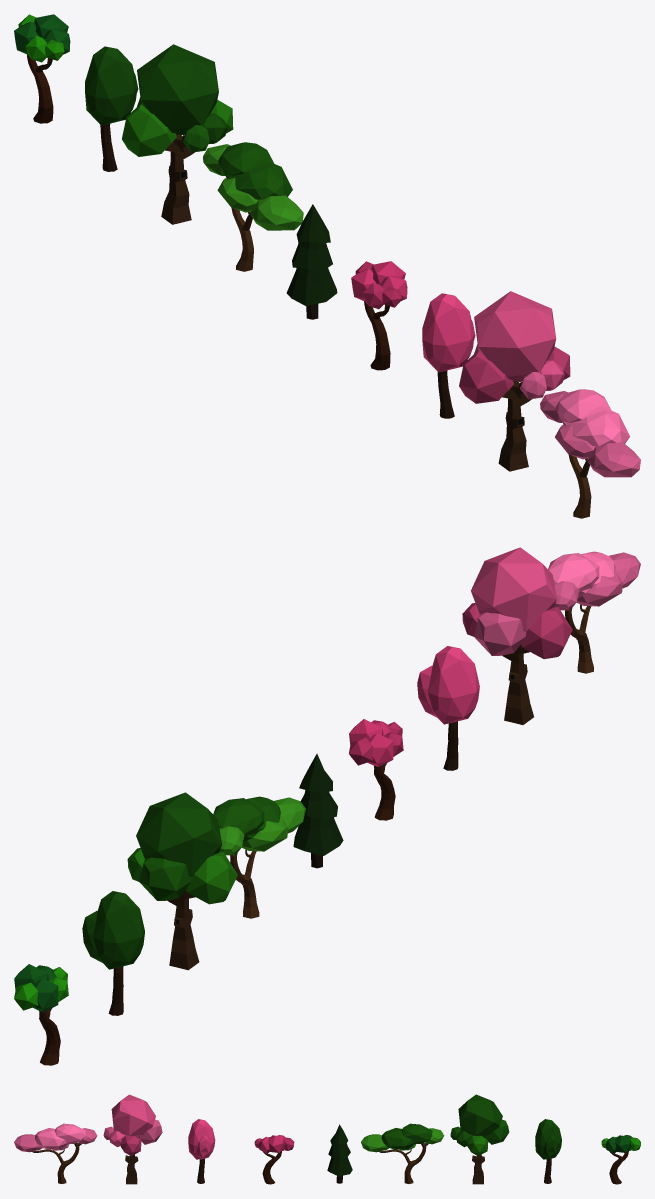
The model's file is Trees_v001_Merged (2).fbx.
3 renders of one model, top to bottom at view 1: azimuth 30°, elevation 25°; view 2: azimuth 150°, elevation 25°; view 3: azimuth 270°, elevation 25°, orthographic. The views are drawn at different scales.
Parts seen in each view (by area): view 1: Tree_03, Tree_08, Tree_09, Tree_04, Tree_07, Tree_02, Tree_05, Tree_06, Tree_01; view 2: Tree_08, Tree_03, Tree_04, Tree_09, Tree_02, Tree_07, Tree_05, Tree_01, Tree_06; view 3: Tree_08, Tree_03, Tree_09, Tree_04, Tree_07, Tree_02, Tree_05, Tree_06, Tree_01.
Boxes of the visible parts, bbox=[...] form: Tree_03: bbox=[122, 44, 233, 224]; Tree_08: bbox=[459, 291, 570, 471]; Tree_09: bbox=[540, 389, 640, 518]; Tree_04: bbox=[203, 142, 303, 271]; Tree_07: bbox=[422, 293, 475, 418]; Tree_02: bbox=[85, 46, 138, 171]; Tree_05: bbox=[286, 204, 337, 319]; Tree_06: bbox=[351, 261, 407, 370]; Tree_01: bbox=[14, 14, 70, 123]; Tree_08: bbox=[462, 547, 572, 724]; Tree_03: bbox=[127, 792, 237, 970]; Tree_04: bbox=[213, 796, 305, 918]; Tree_09: bbox=[548, 551, 640, 673]; Tree_02: bbox=[82, 891, 144, 1015]; Tree_07: bbox=[417, 646, 479, 770]; Tree_05: bbox=[293, 753, 343, 868]; Tree_01: bbox=[14, 964, 68, 1065]; Tree_06: bbox=[349, 719, 403, 820]; Tree_08: bbox=[103, 1094, 162, 1184]; Tree_03: bbox=[450, 1094, 509, 1184]; Tree_09: bbox=[14, 1123, 97, 1183]; Tree_04: bbox=[361, 1123, 444, 1183]; Tree_07: bbox=[188, 1119, 215, 1183]; Tree_02: bbox=[535, 1119, 561, 1183]; Tree_05: bbox=[327, 1124, 352, 1183]; Tree_06: bbox=[254, 1135, 294, 1184]; Tree_01: bbox=[601, 1135, 640, 1184].
Bounding box in the file's own units: 452 × 668 × 4520.
